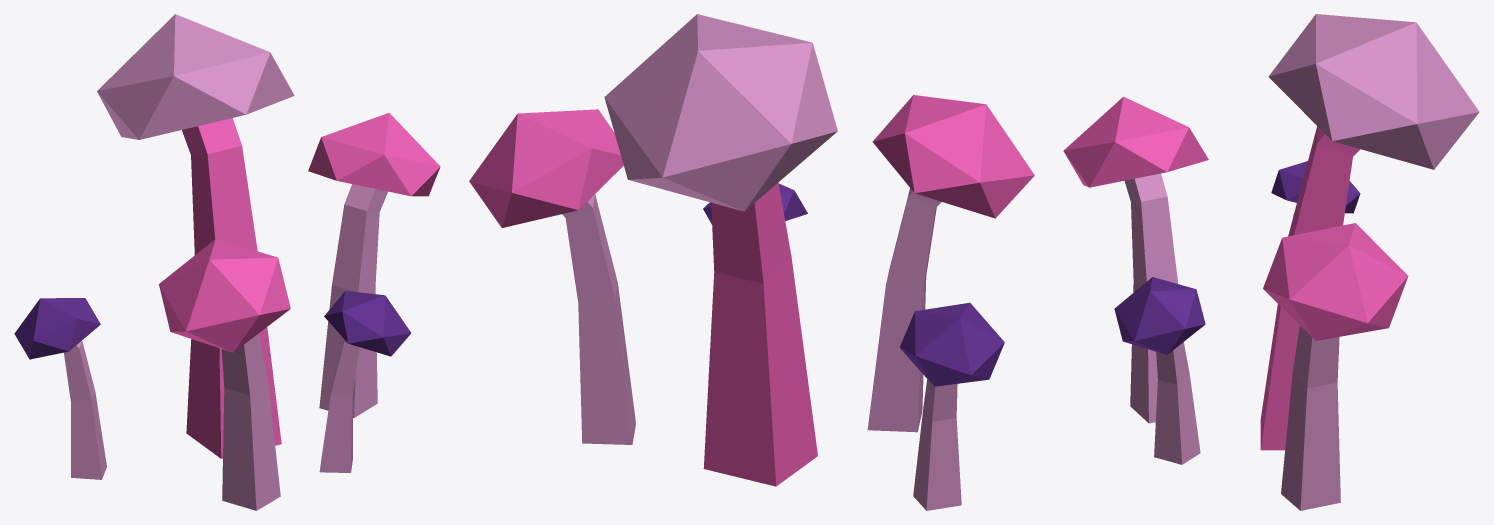
Rendered from Mushroom_Grass_02.fbx.
3 renders of one model, left to right at view 1: azimuth 30°, elevation 25°; view 2: azimuth 150°, elevation 25°; view 3: azimuth 270°, elevation 25°, orthographic. The views are drawn at different scales.
Visible parts, largest first — view 1: Vege_Grass_02; view 2: Vege_Grass_02; view 3: Vege_Grass_02.
Boxes of the visible parts, x1,y1,x2,y2 form: Vege_Grass_02: (14, 14, 440, 510); Vege_Grass_02: (469, 14, 1034, 510); Vege_Grass_02: (1063, 14, 1479, 510).
Bounding box in the file's own units: 105 × 93.63 × 85.86.
